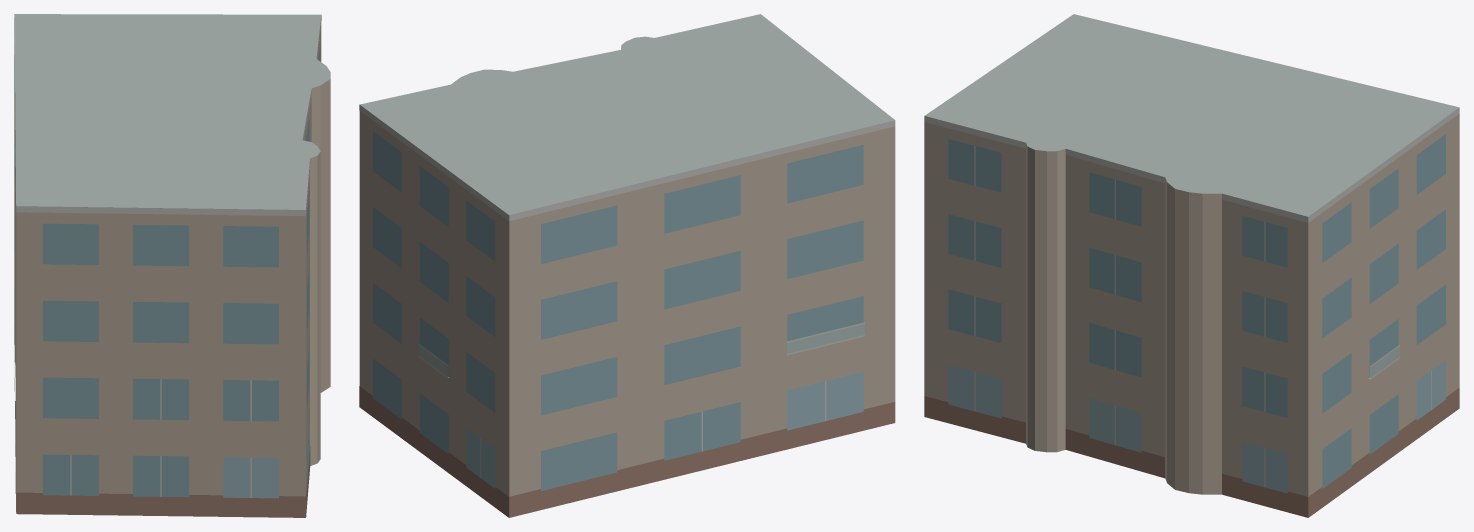
The model's file is survey-upis-32605041.glb.
The picture shows the model from 3 angles, left to right: view 1: azimuth 30°, elevation 25°; view 2: azimuth 150°, elevation 25°; view 3: azimuth 270°, elevation 25°; orthographic projection. The views are drawn at different scales.
Visible parts, largest first — view 1: survey-upis-32605041.tmp; view 2: survey-upis-32605041.tmp; view 3: survey-upis-32605041.tmp.
Part boxes in pixels (box(x1,y1,x2,y2)): survey-upis-32605041.tmp: box(14, 14, 330, 517); survey-upis-32605041.tmp: box(359, 14, 895, 517); survey-upis-32605041.tmp: box(924, 14, 1459, 517).
Bounding box in the file's own units: 17.64 × 12.2 × 19.67.
